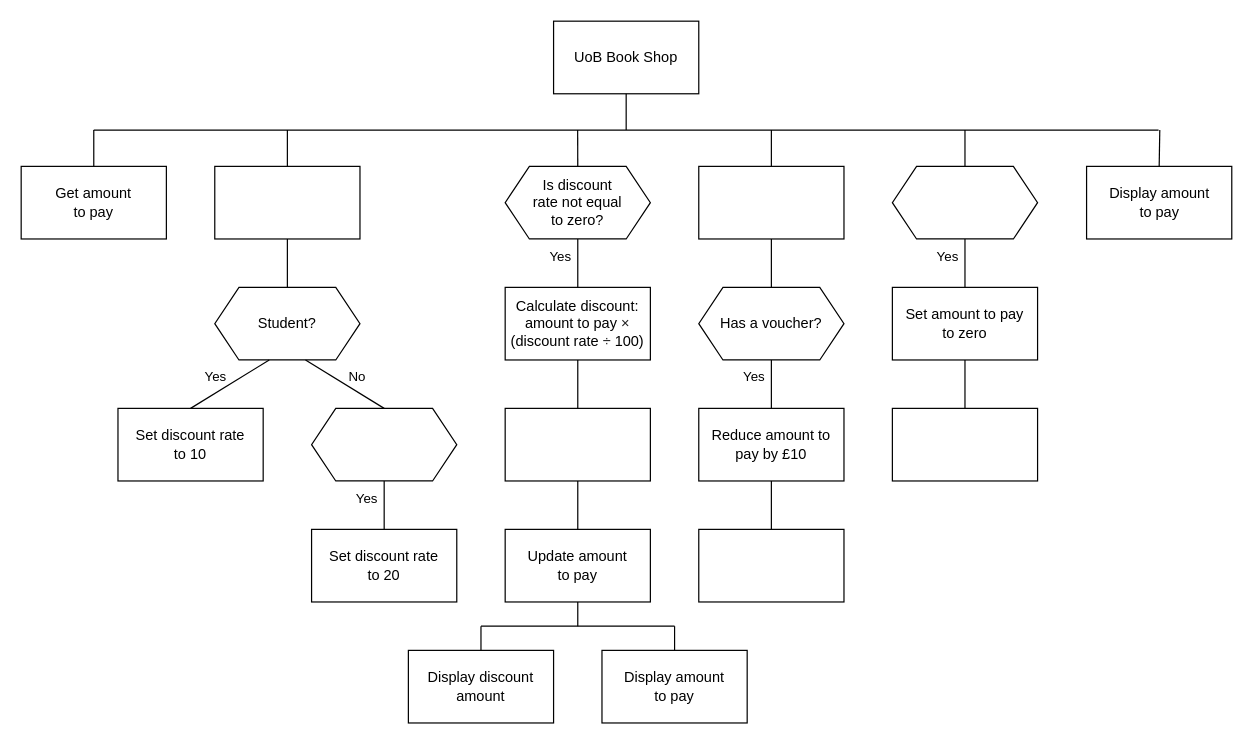
The diagram is 1254 pixels wide and 744 high, and some of its shapes have lost their labels. Each missing label, with the centre of its shape:
"Display no change message" goes at point (964, 444).
"Display voucher message" goes at point (771, 565).
"Get discount type" goes at point (287, 202).
"Get voucher" goes at point (771, 202).
"Is amount to pay less than £0?" goes at point (964, 202).
"Round discount amount to 2 dp" goes at point (577, 444).
"Staff?" goes at point (383, 444).
